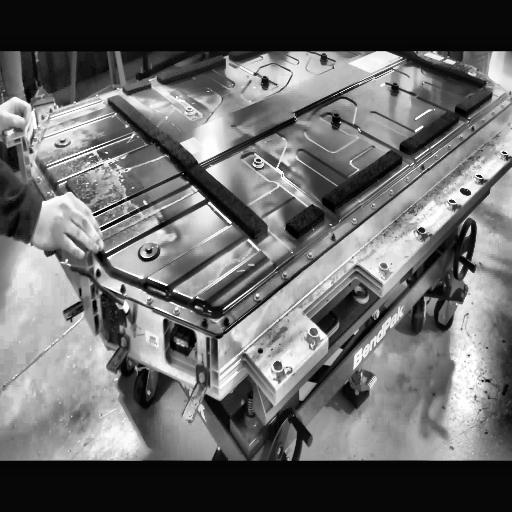b_casing: (26, 48, 511, 340)
